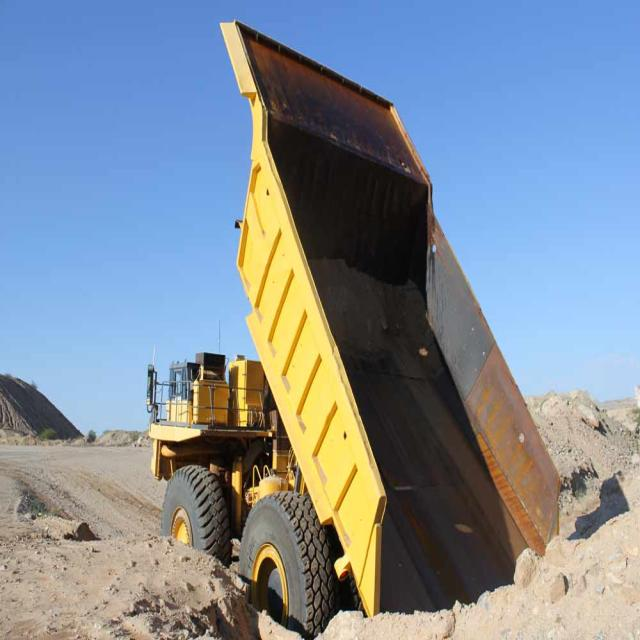dump_truck: (122, 9, 588, 639)
